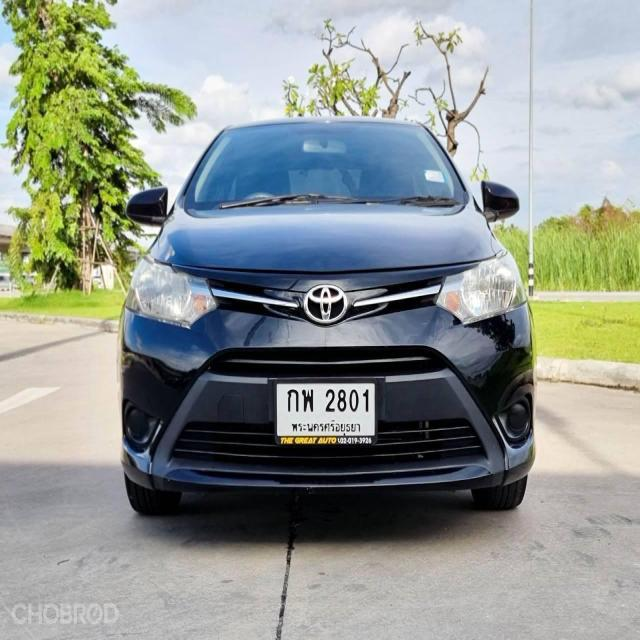license_plate: (270, 376, 379, 450)
